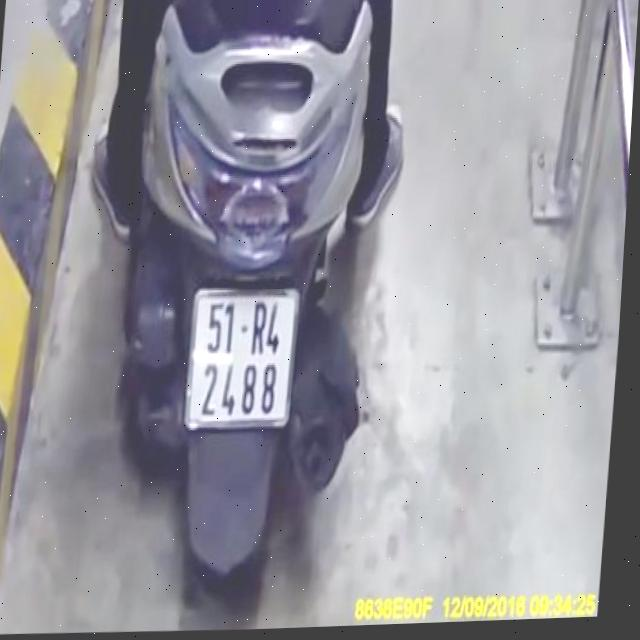motorcycle: (97, 0, 401, 625)
plate: (175, 276, 305, 435)
